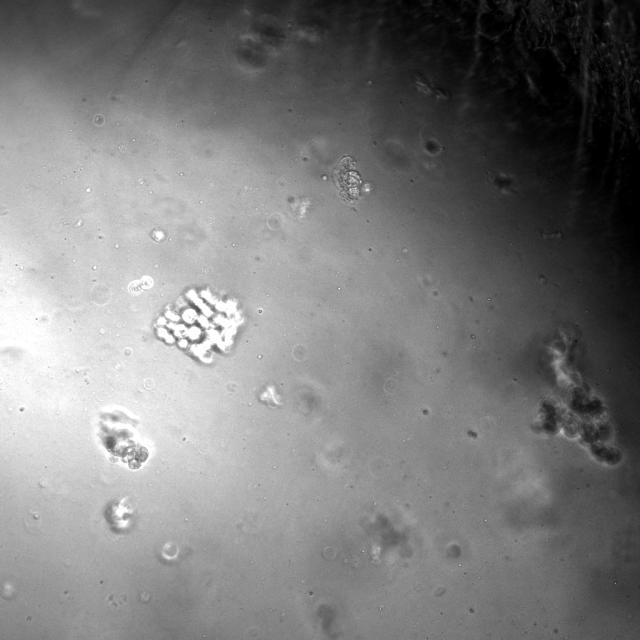organoid: (531, 328, 623, 465), (154, 287, 244, 363), (96, 405, 149, 470), (332, 156, 362, 204), (104, 497, 136, 533), (128, 275, 153, 296), (488, 172, 514, 188), (424, 138, 442, 155)
